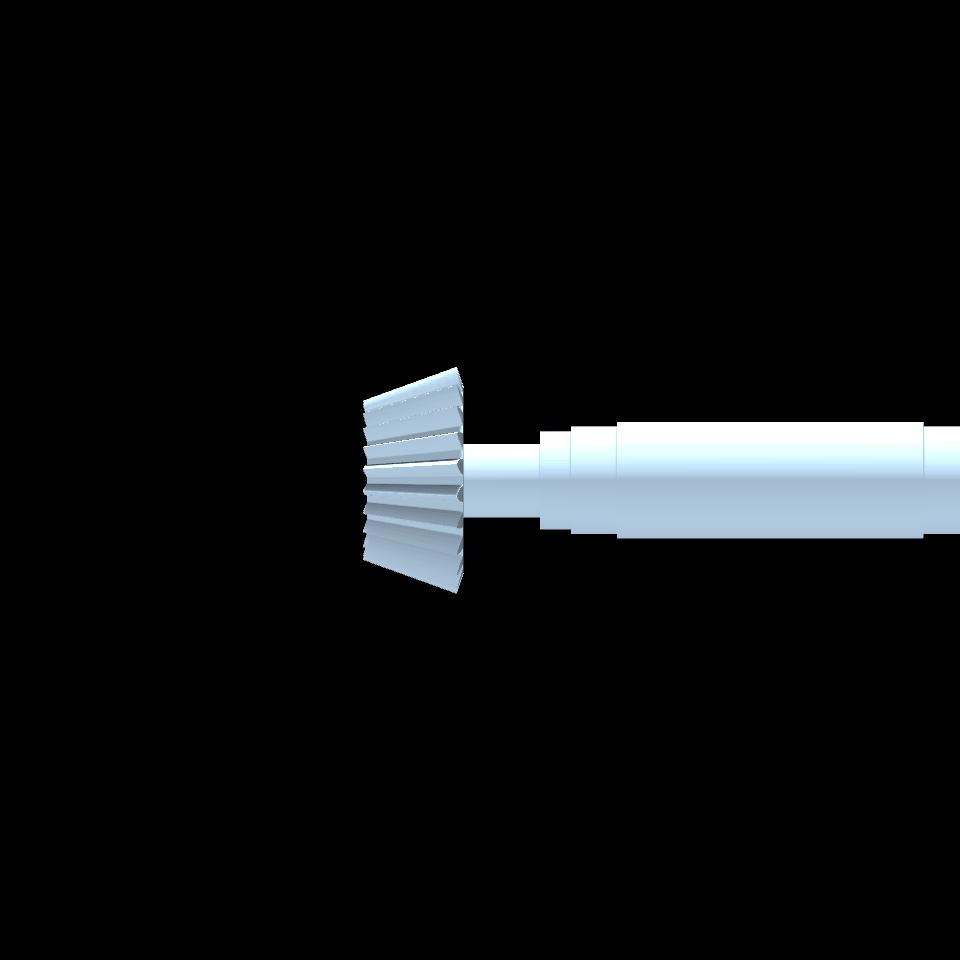Bevel: (362, 364, 463, 597)
